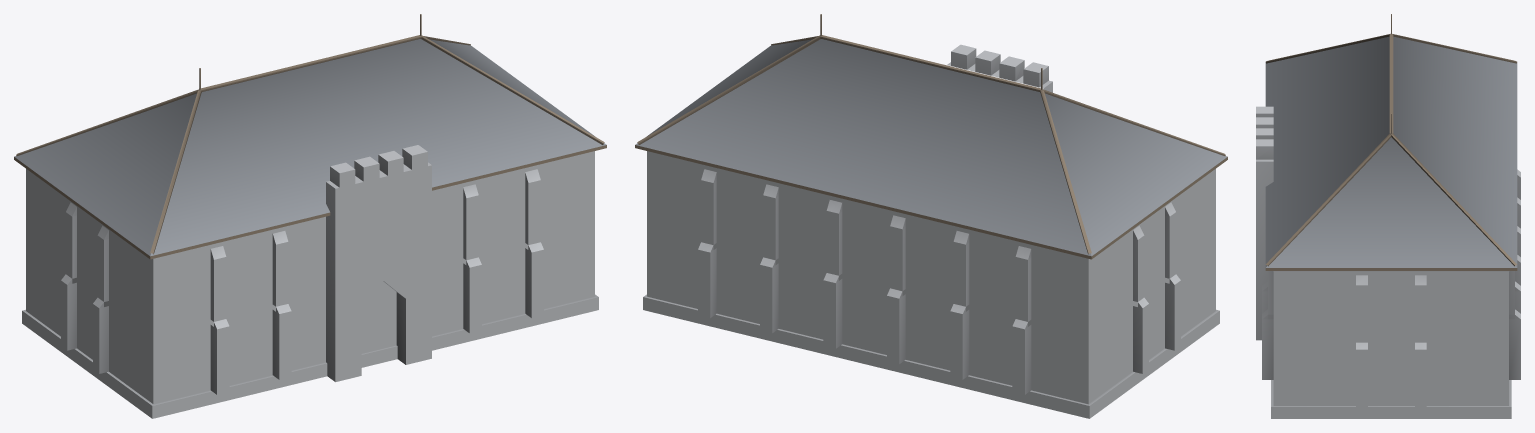
File: sg_guild_hall_l1.glb
The picture shows the model from 3 angles, left to right: view 1: azimuth 30°, elevation 25°; view 2: azimuth 150°, elevation 25°; view 3: azimuth 270°, elevation 25°; orthographic projection. The views are drawn at different scales.
Visible parts, largest first — view 1: sg_guild_hall_l1_SG_Far, sg_guild_hall_l1_SG_Slate, sg_guild_hall_l1_SG_Stone, sg_guild_hall_l1_SG_Joinery; view 2: sg_guild_hall_l1_SG_Far, sg_guild_hall_l1_SG_Slate, sg_guild_hall_l1_SG_Stone, sg_guild_hall_l1_SG_Joinery; view 3: sg_guild_hall_l1_SG_Slate, sg_guild_hall_l1_SG_Far, sg_guild_hall_l1_SG_Stone, sg_guild_hall_l1_SG_Joinery.
Part boxes in pixels (x1=…): sg_guild_hall_l1_SG_Far: x1=22, y1=151, x2=598, y2=418; sg_guild_hall_l1_SG_Slate: x1=14, y1=39, x2=606, y2=256; sg_guild_hall_l1_SG_Stone: x1=22, y1=145, x2=598, y2=405; sg_guild_hall_l1_SG_Joinery: x1=14, y1=14, x2=606, y2=259; sg_guild_hall_l1_SG_Far: x1=643, y1=151, x2=1219, y2=418; sg_guild_hall_l1_SG_Slate: x1=635, y1=39, x2=1227, y2=256; sg_guild_hall_l1_SG_Stone: x1=643, y1=44, x2=1219, y2=405; sg_guild_hall_l1_SG_Joinery: x1=635, y1=14, x2=1227, y2=259; sg_guild_hall_l1_SG_Slate: x1=1265, y1=36, x2=1517, y2=267; sg_guild_hall_l1_SG_Far: x1=1271, y1=271, x2=1511, y2=418; sg_guild_hall_l1_SG_Stone: x1=1256, y1=106, x2=1520, y2=406; sg_guild_hall_l1_SG_Joinery: x1=1265, y1=14, x2=1517, y2=270.
Bounding box in the file's own units: 33.4 × 19.09 × 18.
